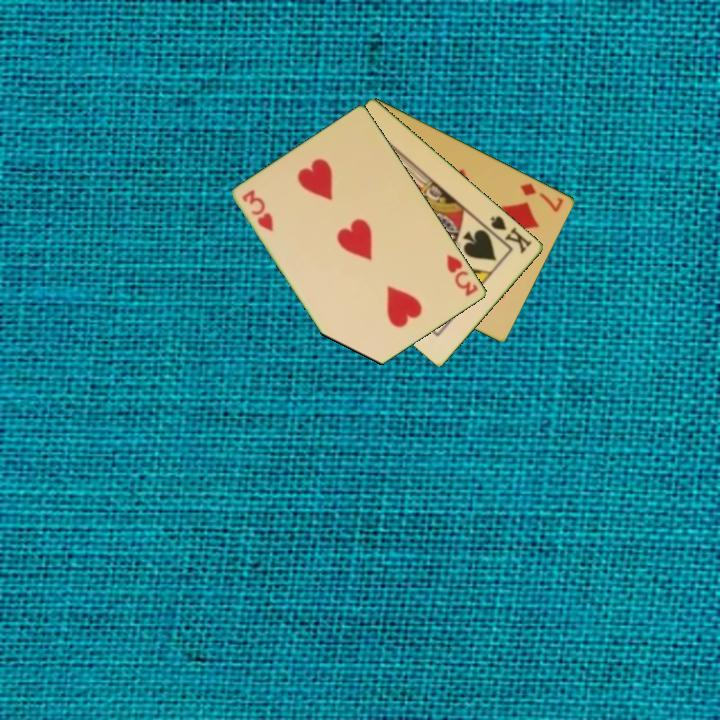3h: (239, 186, 277, 235), (443, 251, 481, 299)
7d: (517, 179, 567, 215)
Ks: (482, 212, 535, 256)
